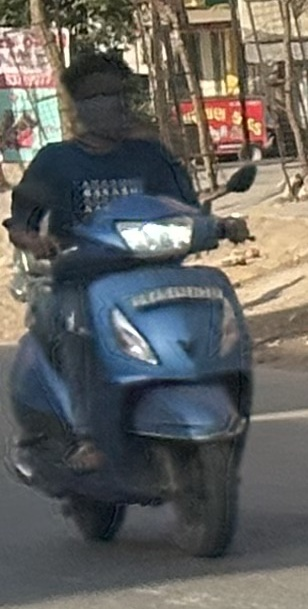BikeWithRider: (1, 43, 269, 565)
NoHelmet: (54, 46, 147, 147)
